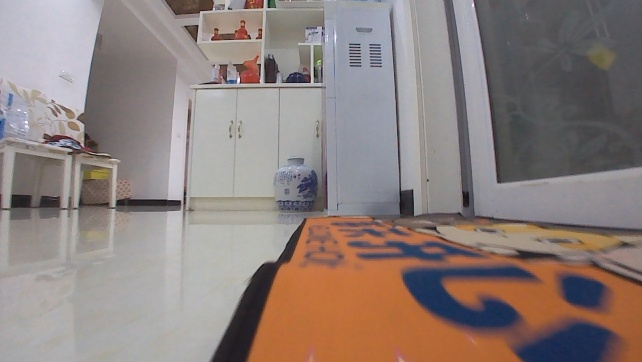blanket: (206, 212, 641, 361)
